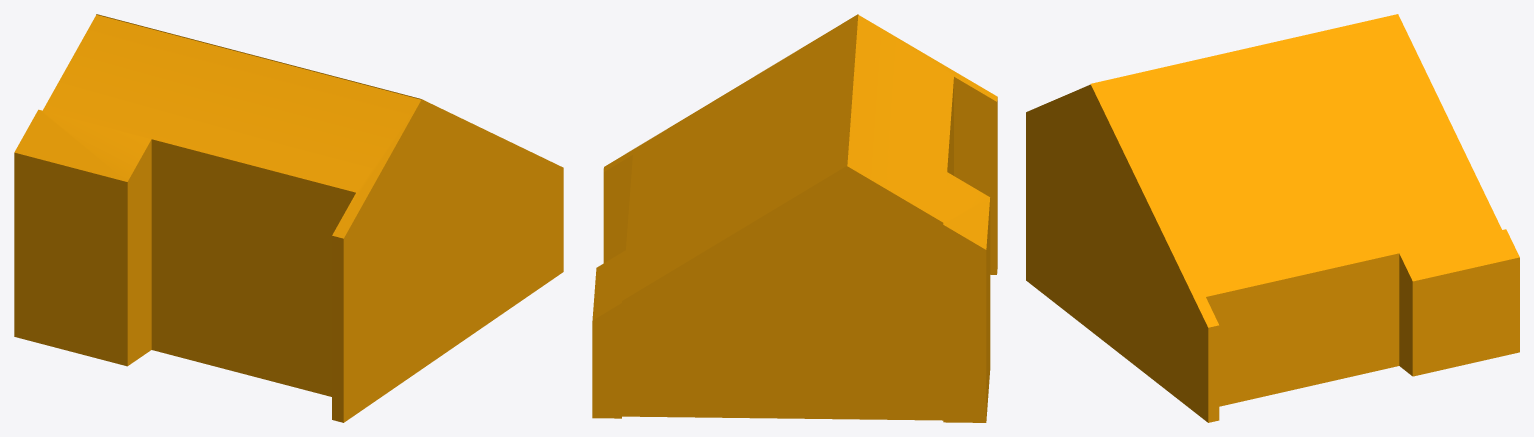
The model's file is DEHB01ALs0000g4b.gltf.
The picture shows the model from 3 angles, left to right: view 1: azimuth 30°, elevation 25°; view 2: azimuth 150°, elevation 25°; view 3: azimuth 270°, elevation 25°; orthographic projection. The views are drawn at different scales.
Parts seen in each view (by area): view 1: Z_UP; view 2: Z_UP; view 3: Z_UP.
Part boxes in pixels (x1,y1,x2,y2): Z_UP: (14,14,563,422); Z_UP: (592,14,997,422); Z_UP: (1026,14,1519,422).
Size of the model in its own units: 14.44 by 7.8 by 14.14.
